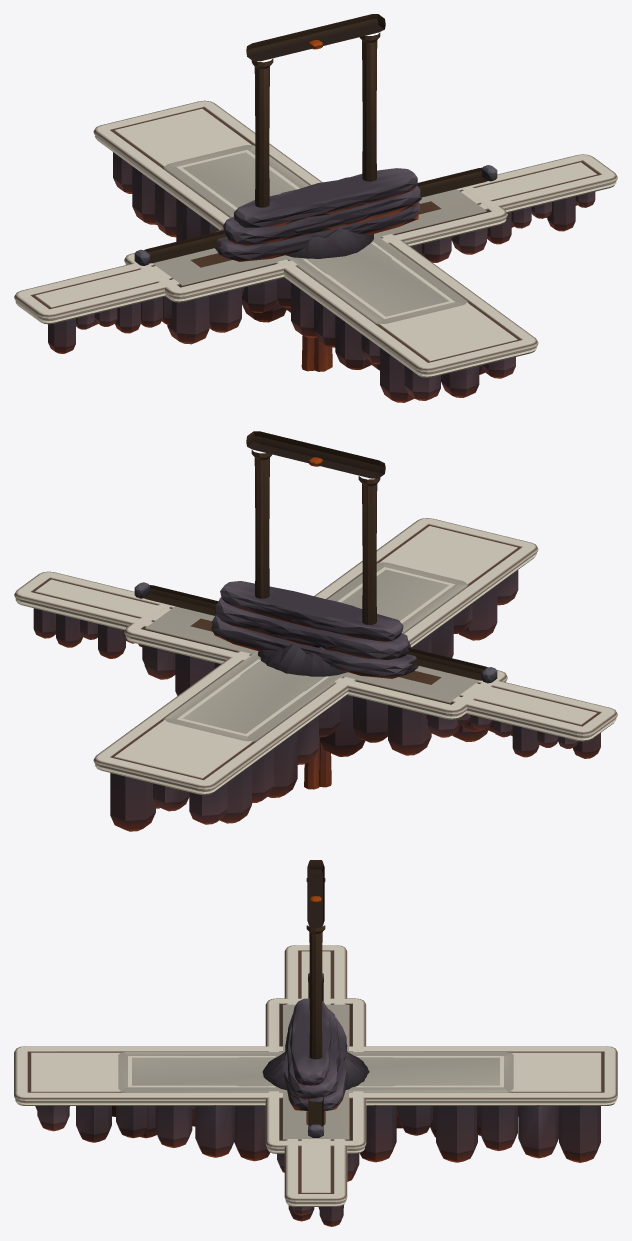
File: volcano-1-P4nVYOYf.glb
3 renders of one model, top to bottom at view 1: azimuth 30°, elevation 25°; view 2: azimuth 150°, elevation 25°; view 3: azimuth 270°, elevation 25°, orthographic. The views are drawn at different scales.
Parts seen in each view (by area): view 1: block_10x2x48#0, block_48x2x5#0, block_28x2x8#0, block_8x2x32#0, spout_13.5x2#0, pressFrame_7x6x4x7#0, mount_14.4#0, spout_7x2#0, geyserVent_3.9#0, support_1_round#0; view 2: block_10x2x48#0, block_48x2x5#0, block_28x2x8#0, block_8x2x32#0, spout_13.5x2#0, pressFrame_7x6x4x7#0, spout_7x2#0, mount_14.4#0, geyserVent_3.9#0, support_1_round#0; view 3: block_10x2x48#0, block_8x2x32#0, block_48x2x5#0, block_28x2x8#0, spout_13.5x2#0, pressFrame_7x6x4x7#0, spout_7x2#0, geyserVent_3.9#0, mount_14.4#0.
Part boxes in pixels (<box>): block_10x2x48#0: <box>93,100,538,402</box>; block_48x2x5#0: <box>14,154,617,353</box>; block_28x2x8#0: <box>124,186,507,344</box>; block_8x2x32#0: <box>162,145,469,370</box>; spout_13.5x2#0: <box>215,168,421,261</box>; pressFrame_7x6x4x7#0: <box>246,14,385,207</box>; mount_14.4#0: <box>134,165,497,265</box>; spout_7x2#0: <box>274,176,376,237</box>; geyserVent_3.9#0: <box>285,226,373,258</box>; support_1_round#0: <box>301,336,332,371</box>; block_10x2x48#0: <box>93,518,538,831</box>; block_48x2x5#0: <box>14,571,617,758</box>; block_28x2x8#0: <box>124,603,507,755</box>; block_8x2x32#0: <box>162,562,469,742</box>; spout_13.5x2#0: <box>211,581,418,678</box>; pressFrame_7x6x4x7#0: <box>246,431,385,624</box>; spout_7x2#0: <box>258,589,361,669</box>; mount_14.4#0: <box>134,582,497,683</box>; geyserVent_3.9#0: <box>258,644,346,676</box>; support_1_round#0: <box>304,737,331,789</box>; block_10x2x48#0: <box>14,1046,617,1162</box>; block_8x2x32#0: <box>118,1051,513,1138</box>; block_48x2x5#0: <box>284,945,347,1226</box>; block_28x2x8#0: <box>265,998,366,1181</box>; spout_13.5x2#0: <box>283,998,347,1111</box>; pressFrame_7x6x4x7#0: <box>306,860,325,1059</box>; spout_7x2#0: <box>284,1015,347,1071</box>; geyserVent_3.9#0: <box>262,1047,369,1090</box>; mount_14.4#0: <box>307,973,324,1137</box>.
Size of the model in its own units: 48 by 26.5 by 48.
